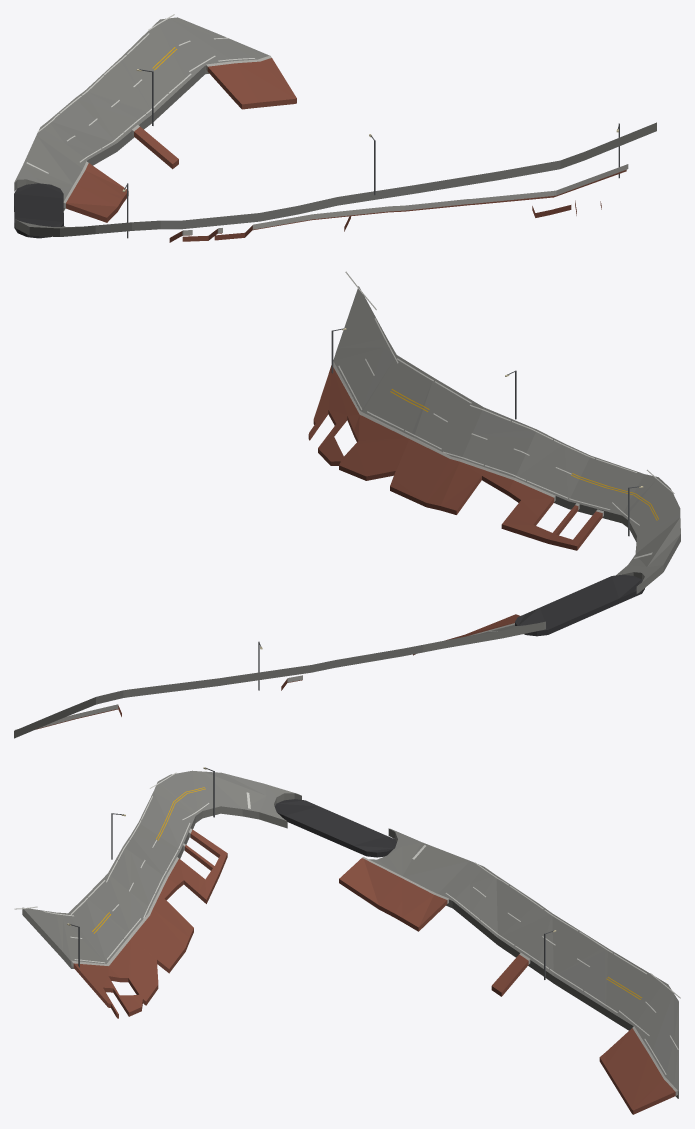
File: 17-109472-59487.eae4eb5b.glb
The picture shows the model from 3 angles, top to bottom: view 1: azimuth 30°, elevation 25°; view 2: azimuth 150°, elevation 25°; view 3: azimuth 270°, elevation 25°; orthographic projection. The views are drawn at different scales.
Bounding box in the file's own units: 72.82 × 34.84 × 98.32.
